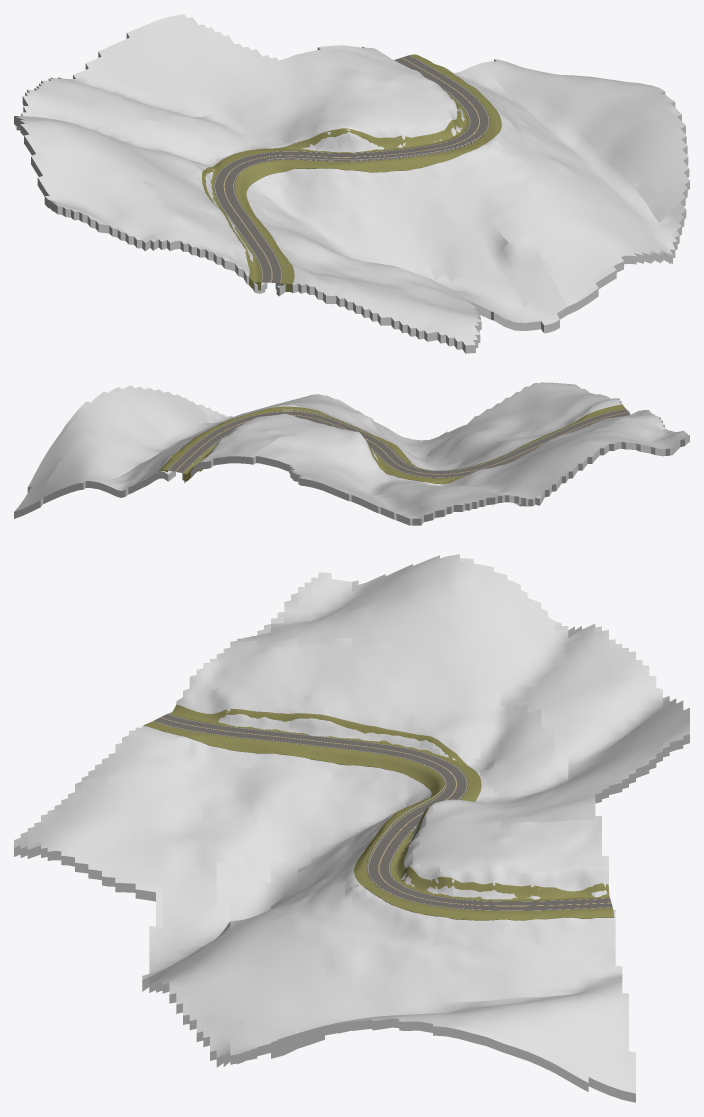
File: conz_172.glb
3 views of the same model, one above another, from view 1: azimuth 30°, elevation 25°; view 2: azimuth 150°, elevation 25°; view 3: azimuth 270°, elevation 25° (orthographic). The views are drawn at different scales.
Parts seen in each view (by area): view 1: terrain172, road172, verge172L, verge172R, paint_white172, paint_yellow172; view 2: terrain172, road172, verge172L, verge172R, paint_yellow172, paint_white172; view 3: terrain172, road172, verge172L, verge172R, paint_white172.
Part boxes in pixels (left/top/right/bottom): terrain172: left=14, top=14, right=689, bottom=353; road172: left=214, top=55, right=489, bottom=283; verge172L: left=234, top=54, right=501, bottom=292; verge172R: left=202, top=88, right=469, bottom=290; paint_white172: left=214, top=55, right=488, bottom=282; paint_yellow172: left=223, top=57, right=479, bottom=282; terrain172: left=14, top=382, right=689, bottom=525; road172: left=167, top=409, right=630, bottom=478; verge172L: left=158, top=404, right=625, bottom=472; verge172R: left=183, top=424, right=591, bottom=484; paint_yellow172: left=175, top=412, right=628, bottom=474; paint_white172: left=168, top=409, right=625, bottom=477; terrain172: left=14, top=554, right=689, bottom=1102; road172: left=153, top=713, right=612, bottom=910; verge172L: left=144, top=721, right=614, bottom=920; verge172R: left=168, top=704, right=609, bottom=901; paint_white172: left=153, top=714, right=609, bottom=910.
Bounding box in the file's own units: 252 × 72.76 × 200.
